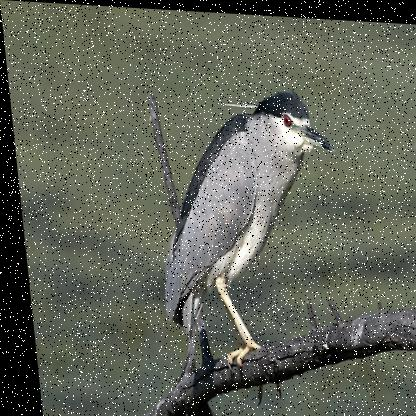Burung: (138, 82, 354, 408)
